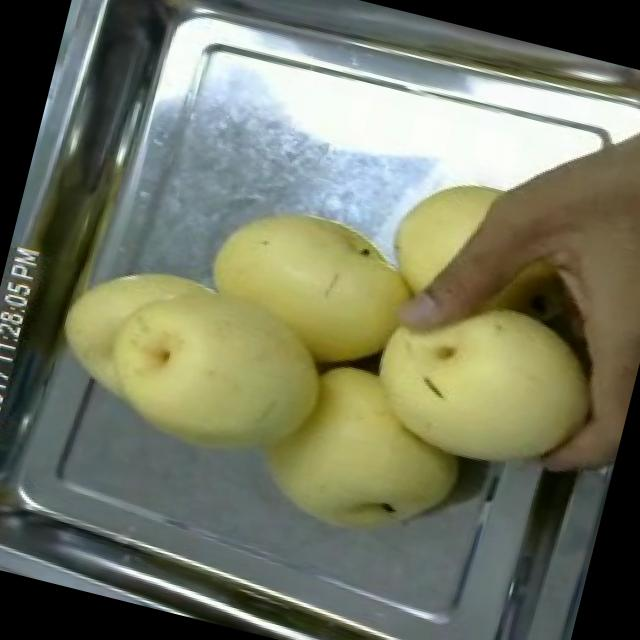Fruit: (401, 29, 640, 389), (29, 234, 350, 489), (335, 253, 633, 506), (240, 334, 490, 570), (180, 180, 431, 392)
